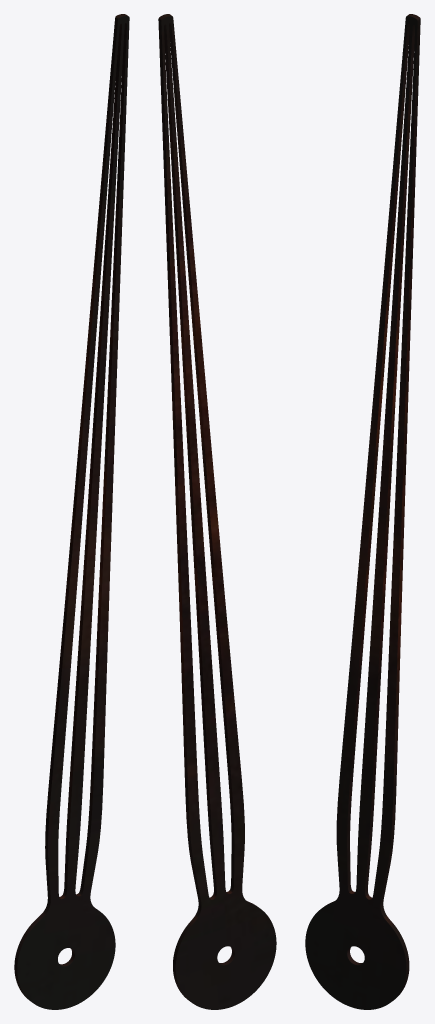
Rendered from GearMinuto.obj.
The picture shows the model from 3 angles, left to right: view 1: azimuth 30°, elevation 25°; view 2: azimuth 210°, elevation 25°; view 3: azimuth 330°, elevation 25°; orthographic projection. The views are drawn at different scales.
Visible parts, largest first — view 1: minutero_RustOscuro; view 2: minutero_RustOscuro; view 3: minutero_RustOscuro.
Boxes of the visible parts, box(x1,y1,x2,y2) form: minutero_RustOscuro: box(14, 14, 129, 1009); minutero_RustOscuro: box(158, 14, 276, 1009); minutero_RustOscuro: box(305, 14, 420, 1009).
Bounding box in the file's own units: 0.4837 × 4.09 × 0.0338.
